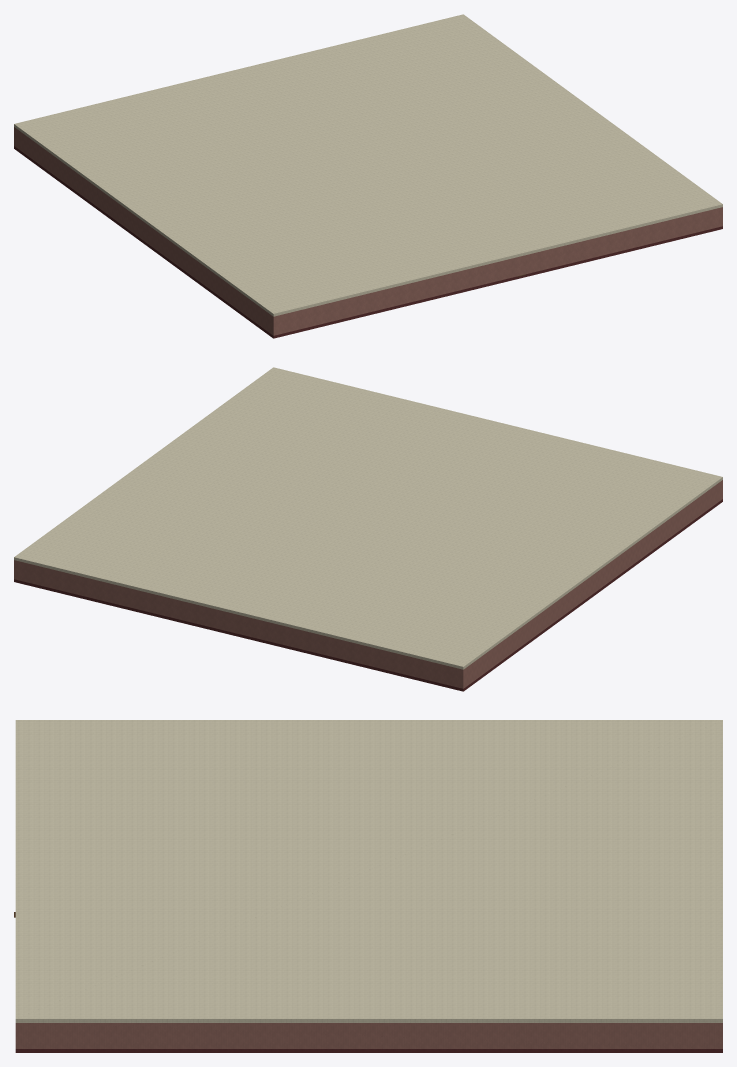
Rendered from level5_shell.obj.
3 views of the same model, one above another, from view 1: azimuth 30°, elevation 25°; view 2: azimuth 150°, elevation 25°; view 3: azimuth 270°, elevation 25° (orthographic). The views are drawn at different scales.
Size of the model in its own units: 83.5 by 4.4 by 83.71.
4 materials, 3 textured.
